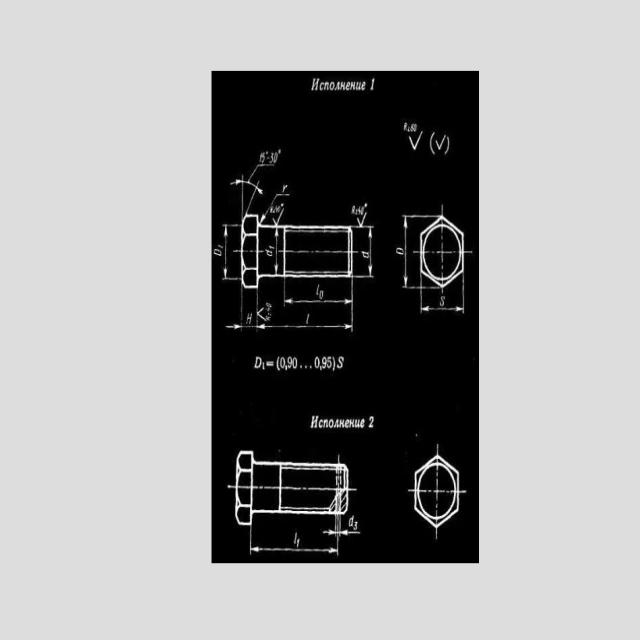marking_line: (226, 289, 356, 333), (250, 526, 361, 555), (249, 526, 340, 556), (283, 278, 355, 307), (401, 215, 420, 290), (228, 176, 262, 214), (419, 290, 464, 315), (353, 226, 374, 279), (222, 225, 241, 282), (260, 193, 291, 225), (322, 515, 362, 538), (225, 288, 245, 331)
numeric: (279, 356, 286, 369), (314, 356, 320, 369), (327, 356, 332, 369), (269, 151, 274, 164), (369, 416, 374, 428), (353, 520, 358, 532), (322, 357, 327, 369), (288, 356, 293, 368), (292, 357, 297, 369), (319, 290, 325, 300), (274, 152, 278, 162), (262, 151, 265, 164), (218, 243, 224, 249), (259, 152, 262, 164), (269, 245, 276, 250), (296, 539, 300, 547), (361, 206, 364, 215), (275, 206, 278, 214), (358, 206, 361, 214), (278, 206, 281, 213)
special_symbol: (408, 130, 423, 150), (272, 209, 285, 224), (435, 134, 446, 150), (258, 306, 266, 323), (357, 212, 367, 225), (430, 131, 435, 154), (445, 133, 449, 156), (331, 357, 336, 372), (277, 355, 280, 371)
